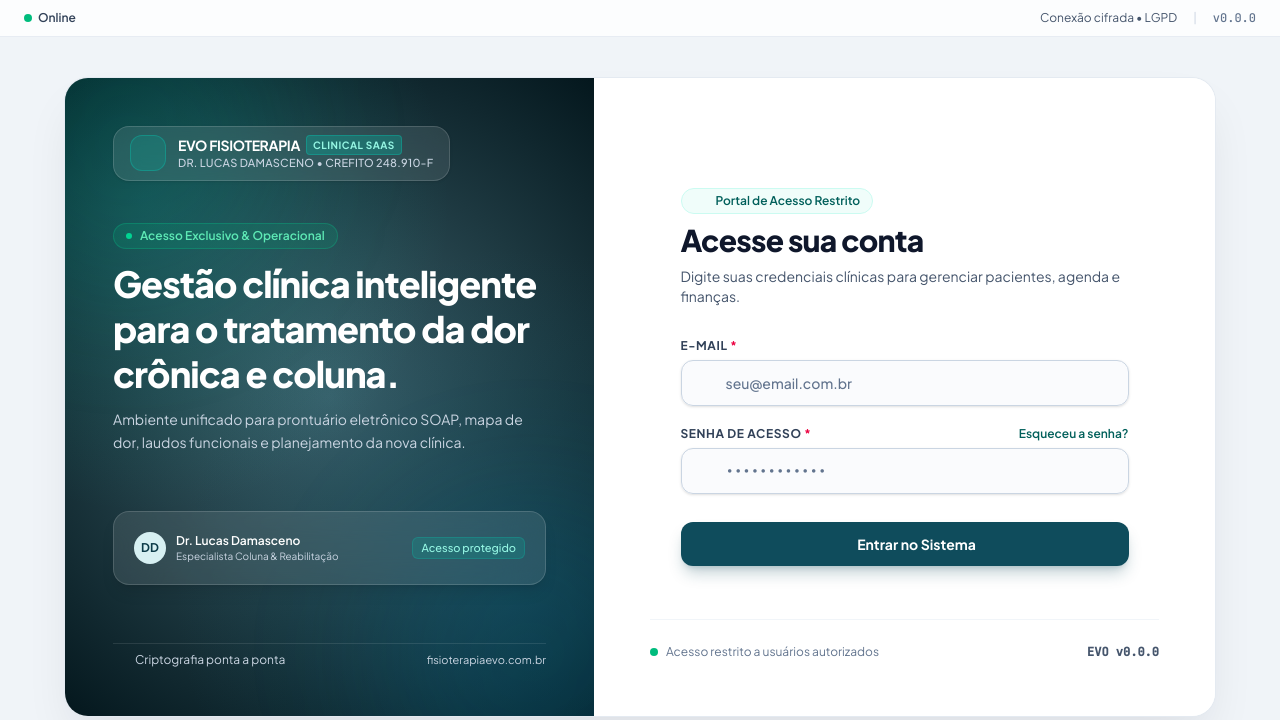
Test case: LoginTela › CONTA_BLOQUEADA mostra o horário em America/Sao_Paulo (09:30)
This screenshot has width=1280, height=720.
Type "lucas@clinica.com" into the field labelled "E-mail *" at (904, 382), box x1=680 y1=360 x2=1128 y2=406
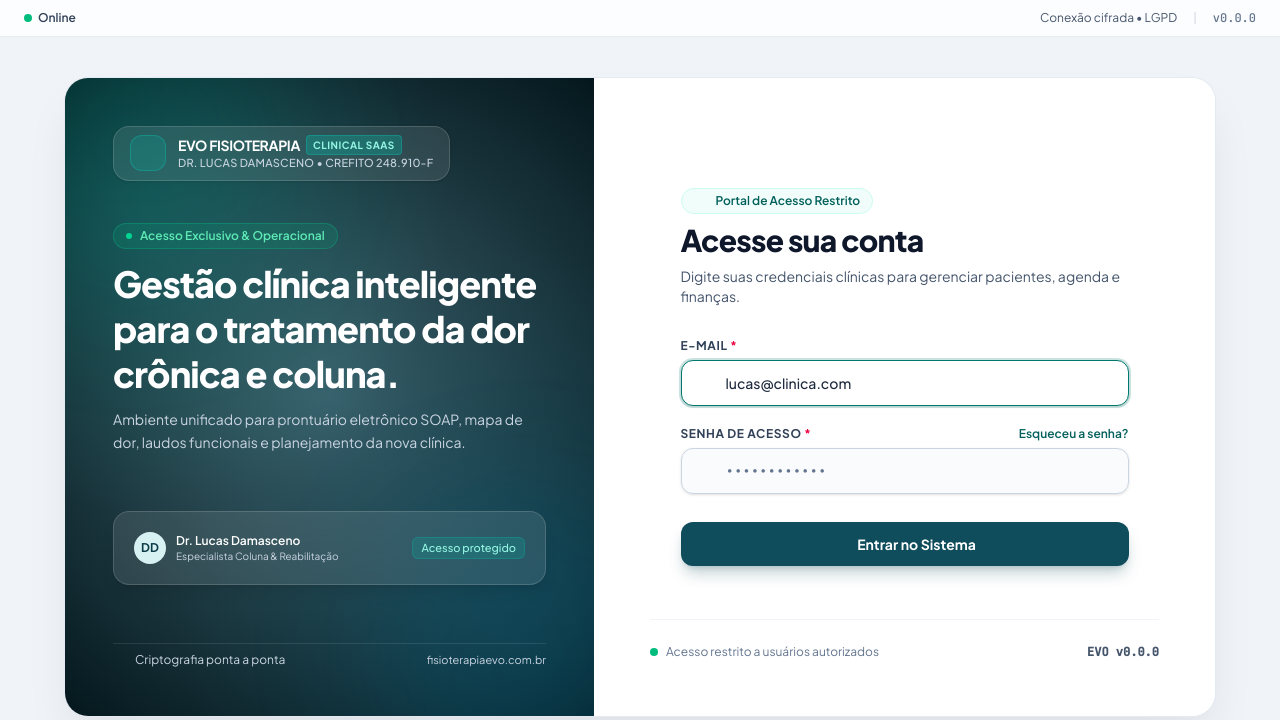
Type "senha-de-teste-forte-123" into the password field labelled "Senha de Acesso *" at (904, 470), box x1=680 y1=448 x2=1128 y2=494
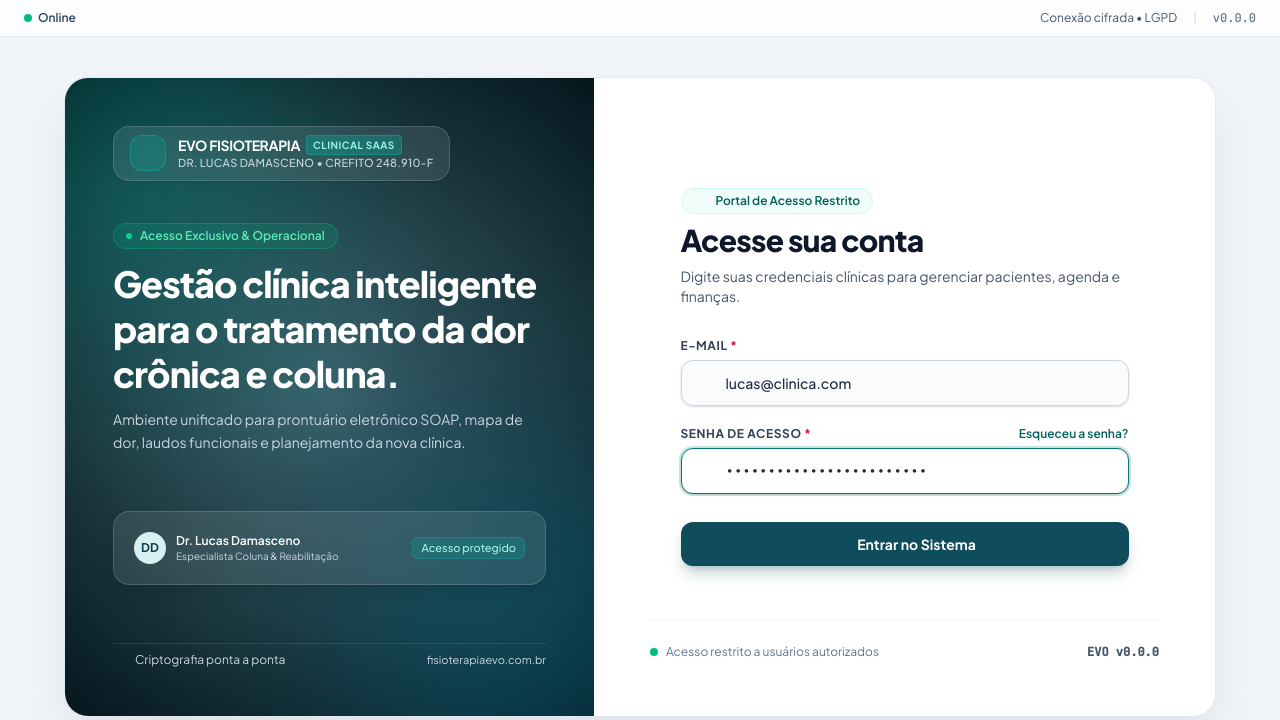
Click the button "Entrar no Sistema" at (904, 544), box x1=680 y1=522 x2=1128 y2=566
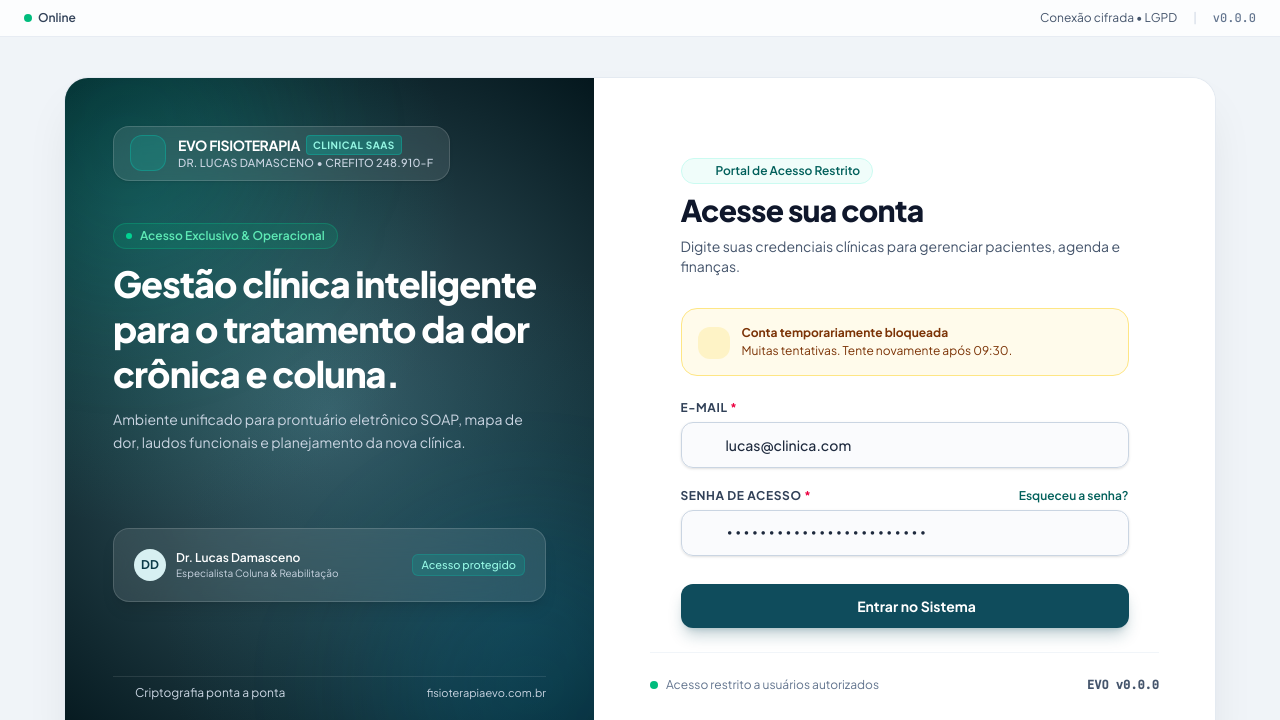
Result: the message "Conta temporariamente bloqueada Muitas tentativas. Tente novamente após 09:30." is shown at x1=680 y1=308 x2=1128 y2=376
